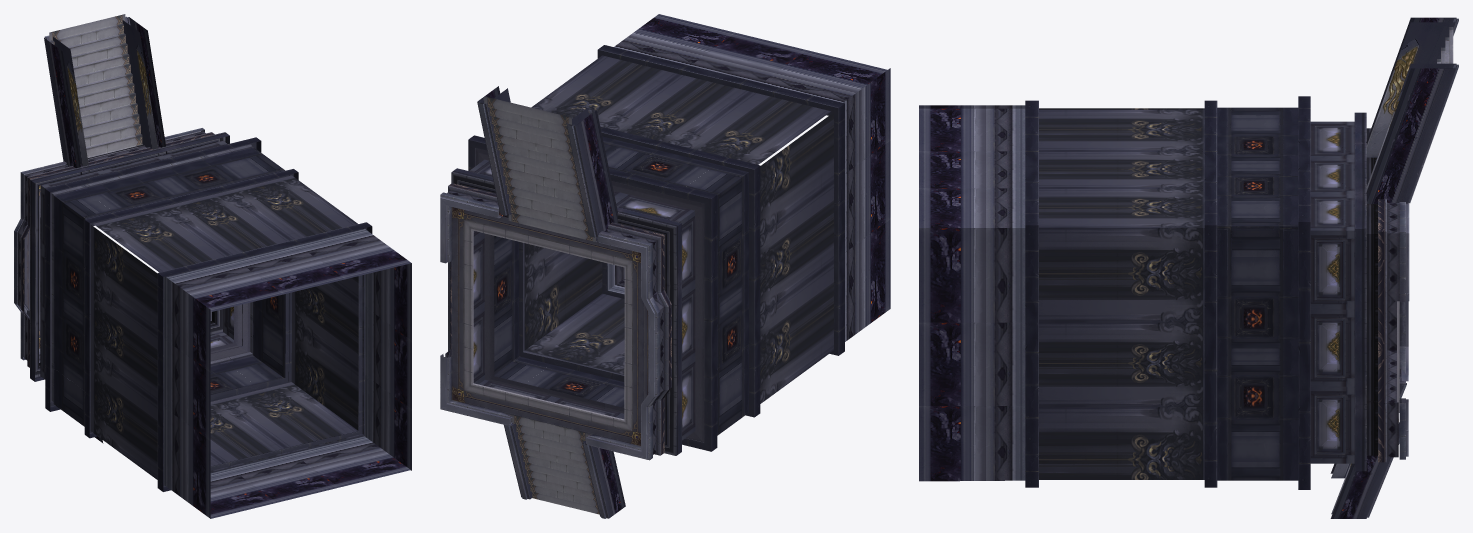
Rendered from Item_mgz_1005_pt_05.FBX.
The picture shows the model from 3 angles, left to right: view 1: azimuth 30°, elevation 25°; view 2: azimuth 150°, elevation 25°; view 3: azimuth 270°, elevation 25°; orthographic projection. The views are drawn at different scales.
Parts seen in each view (by area): view 1: Item_mgz_1005_pt_05; view 2: Item_mgz_1005_pt_05; view 3: Item_mgz_1005_pt_05.
Boxes of the visible parts, x1,y1,x2,y2 form: Item_mgz_1005_pt_05: [14, 14, 411, 518]; Item_mgz_1005_pt_05: [440, 14, 890, 518]; Item_mgz_1005_pt_05: [919, 17, 1458, 518].
Bounding box in the file's own units: 2523 × 4286 × 4577.
Materials: 1 (1 with a texture image).
